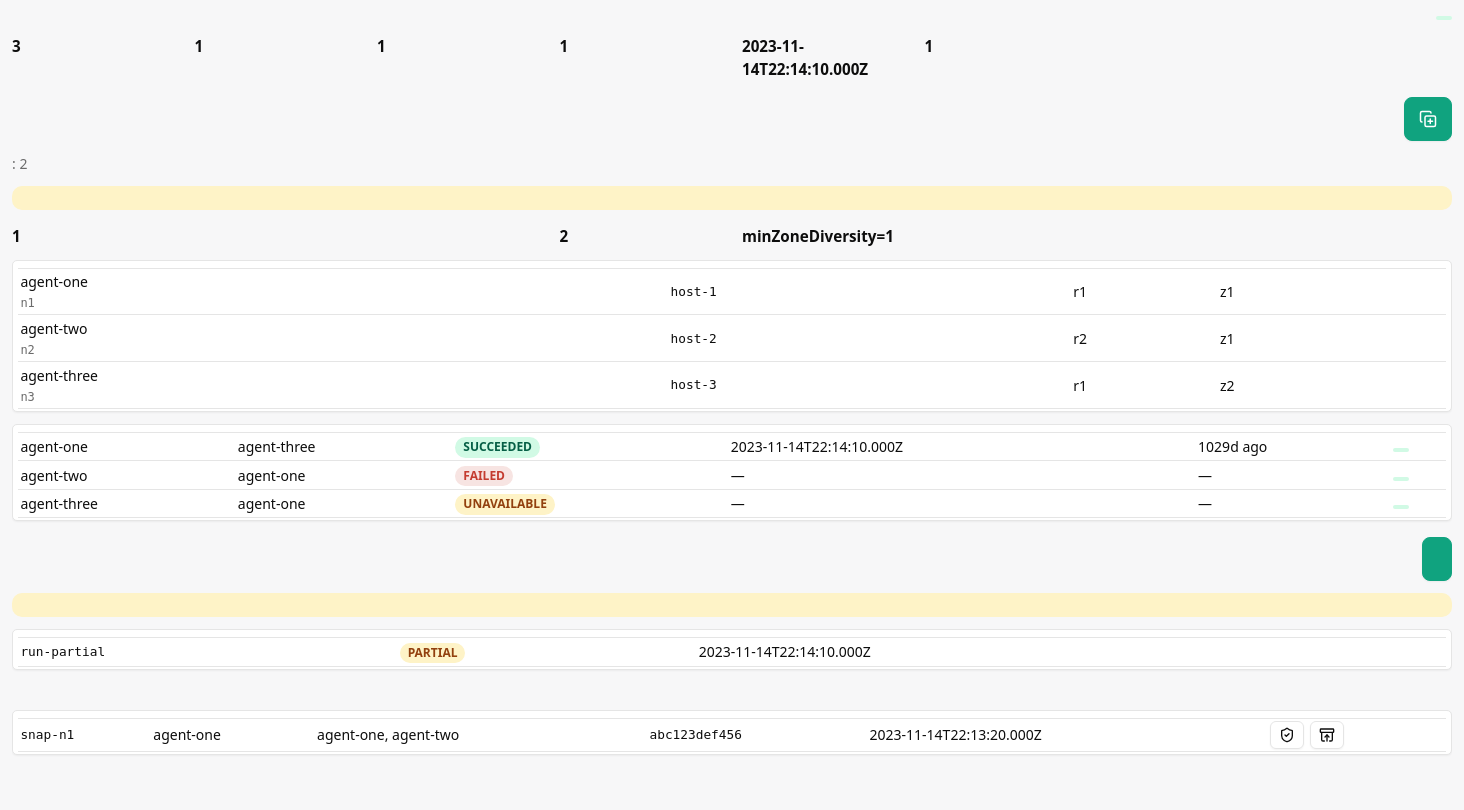
it: DisasterReplicaPage › shows an error toast when checksum verification fails
Click the 3rd button: [1287, 735] box [1270,721,1304,749]
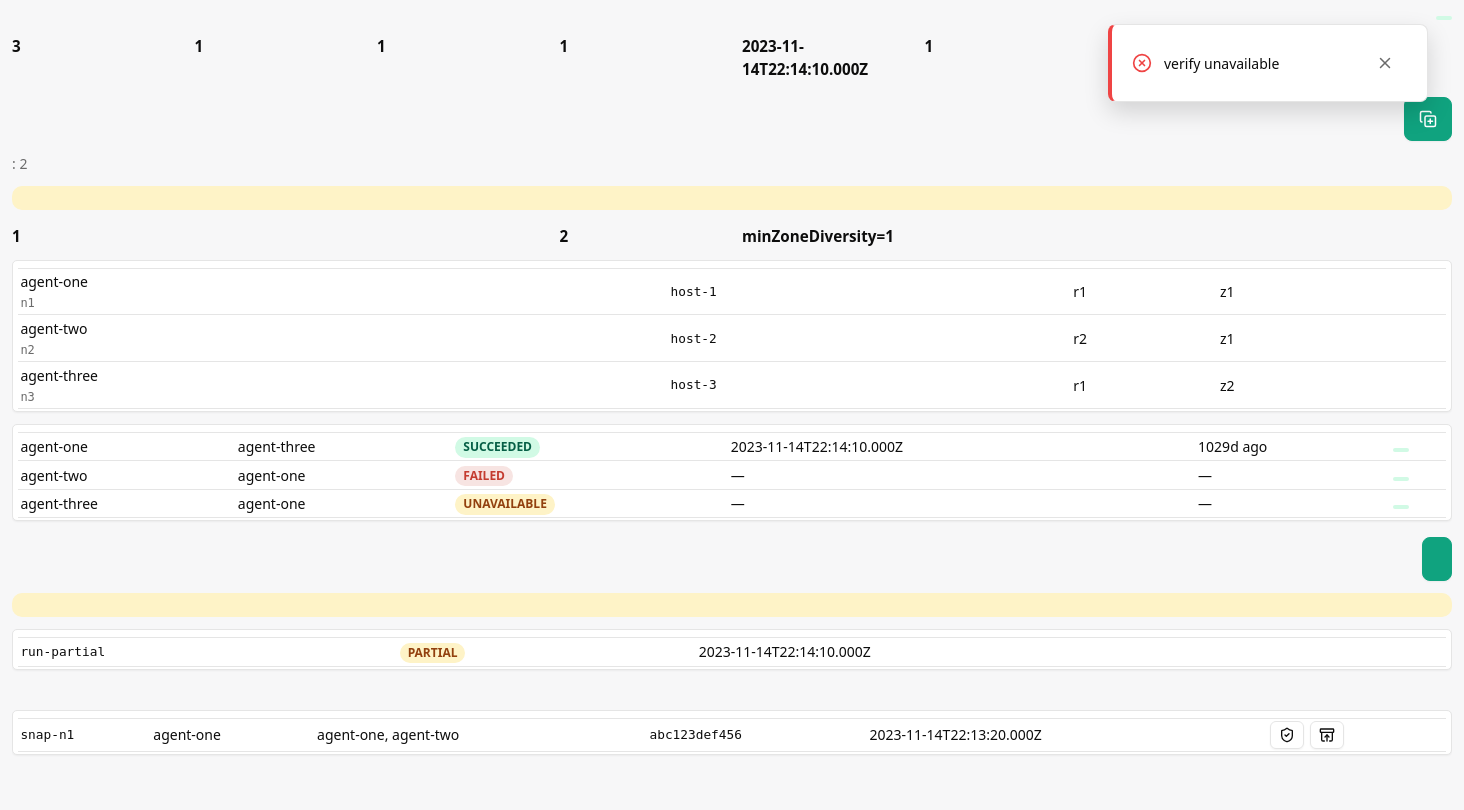
Expected: the element with class "toast-error" reads "verify unavailable", [1164,54,1279,72]
